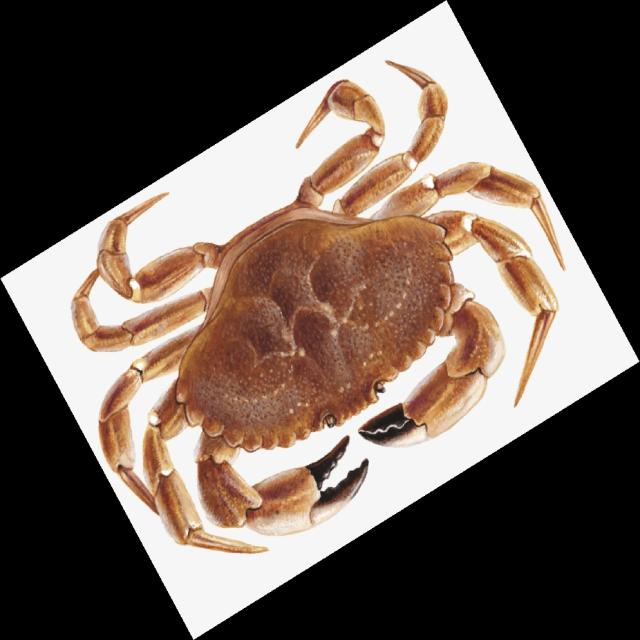Native Jonah crab: (73, 82, 561, 552)
